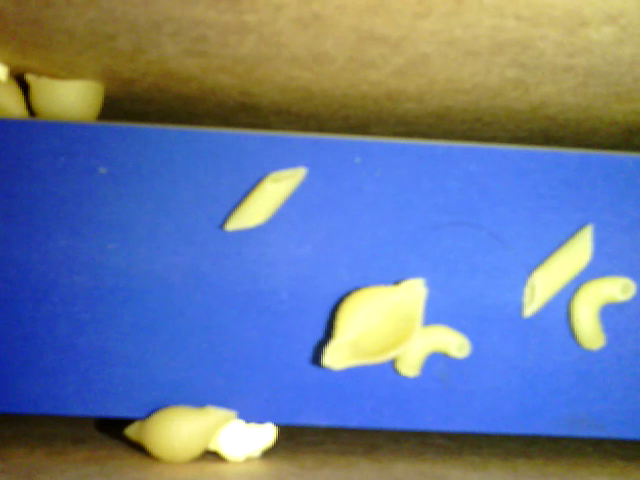elbow: (565, 273, 636, 353), (394, 321, 474, 380)
penne: (521, 223, 594, 320), (223, 165, 309, 231)
shell: (315, 273, 426, 373), (124, 401, 235, 464), (25, 68, 103, 120)
